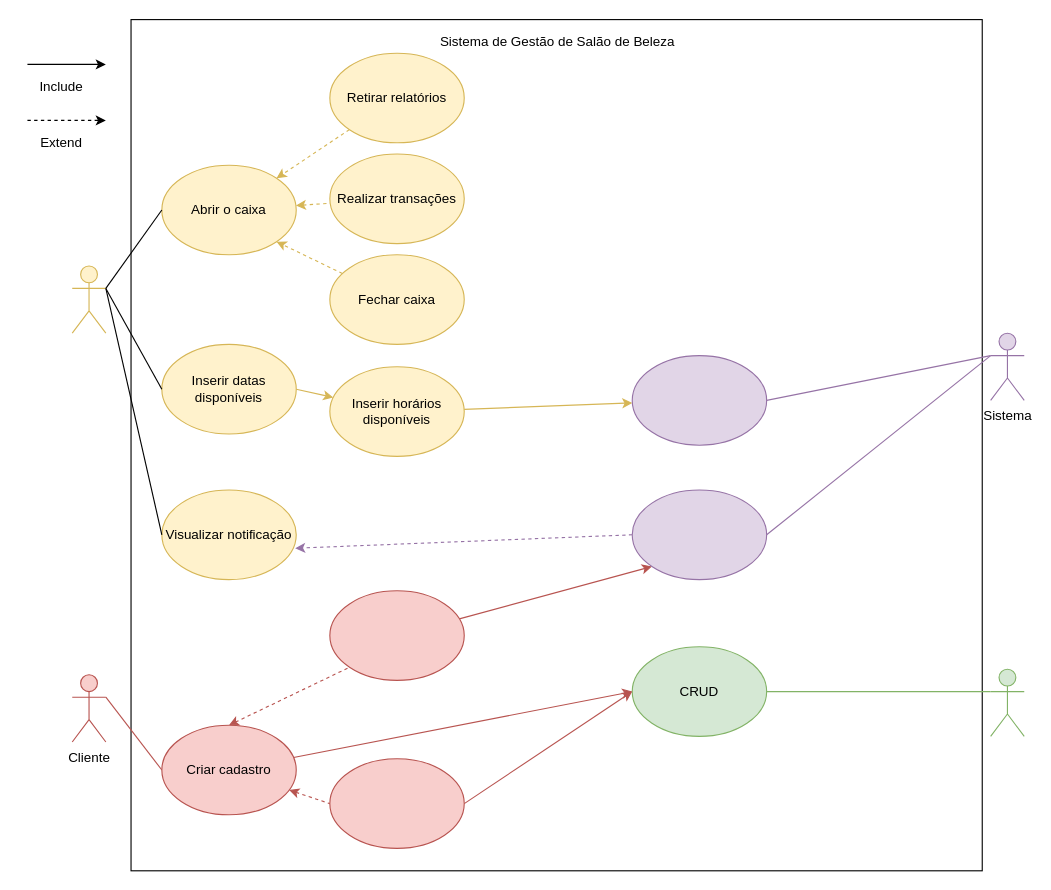
Image size: 1051x890. Some labels were removed from this diagram. The centre of each missing label's shape, as x and y in pixels:
Agendar horário e data: the point at 396,635
Alterar cadastro: the point at 396,803
BD: the point at 1007,702
Exibir na página de agendamento: the point at 699,399
Notificar o agendamento: the point at 699,534
Proprietário: the point at 88,299
